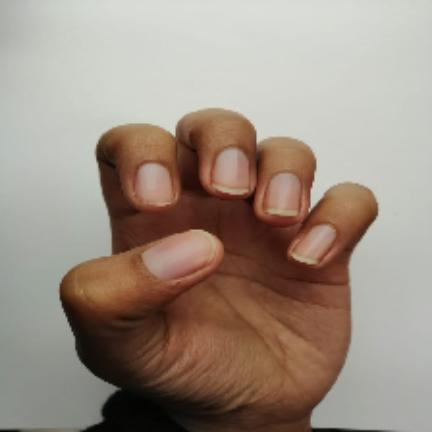Nail: (143, 230, 219, 280), (290, 225, 336, 265), (134, 162, 173, 207), (212, 148, 250, 194), (263, 173, 301, 217)
